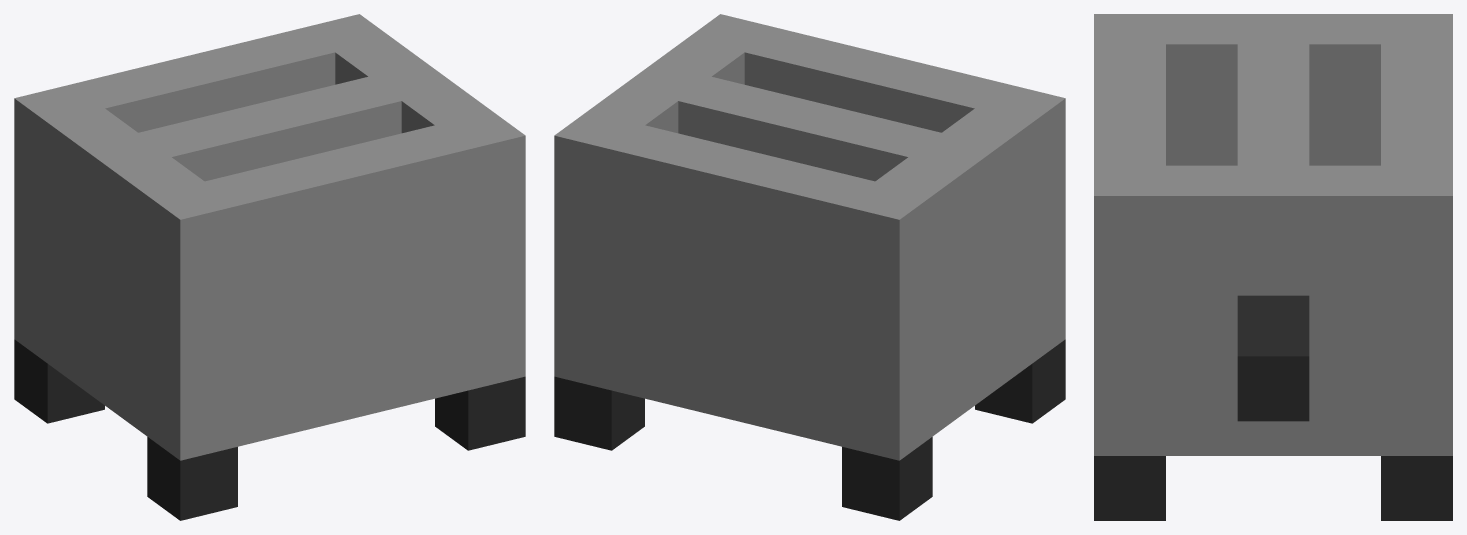
The model's file is Toaster.obj.
The picture shows the model from 3 angles, left to right: view 1: azimuth 30°, elevation 25°; view 2: azimuth 150°, elevation 25°; view 3: azimuth 270°, elevation 25°; orthographic projection. The views are drawn at different scales.
Parts seen in each view (by area): view 1: Toaster; view 2: Toaster; view 3: Toaster.
Boxes of the visible parts, left/top/right/bottom form: Toaster: left=14, top=14, right=525, bottom=520; Toaster: left=554, top=14, right=1065, bottom=520; Toaster: left=1094, top=14, right=1452, bottom=520.
Bounding box in the file's own units: 7 × 5 × 5.
Materials: 1 (1 with a texture image).
